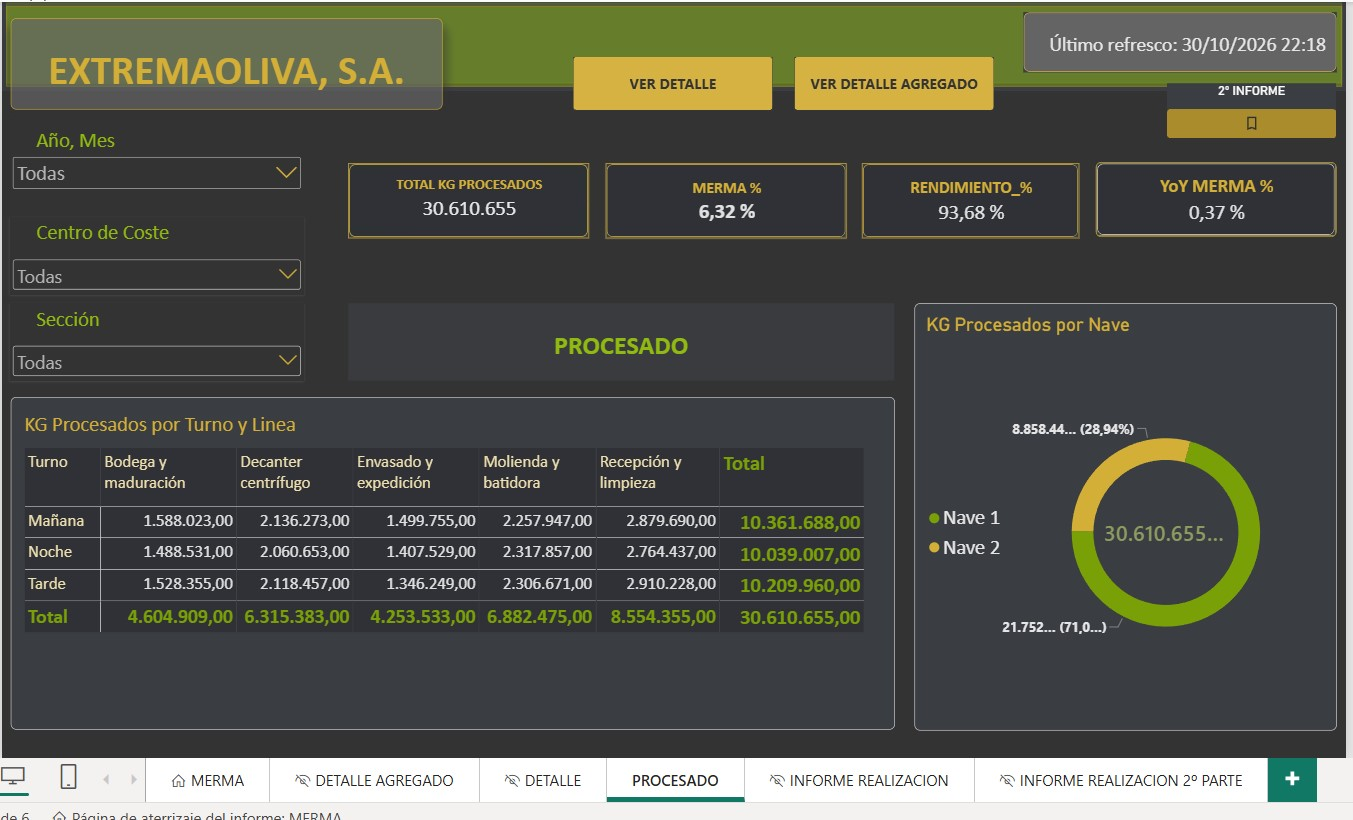

Layout of this report page (visuals, bound fields, positions):
{"tool":"powerbi","page":{"name":"PROCESADO","canvas":[1920,1080],"ordinal":3},"visuals":[{"type":"shape","box":[0,0,1920.6,127],"z":0},{"type":"slicer","title":" ⠀⠀Año, Mes","fields":{"Values":["Calendario.AÑO","Calendario.MES_LETRA"]},"box":[11.5,174.4,421,111],"z":1000},{"type":"textbox","box":[11.7,23.3,616.7,130],"z":2000},{"type":"slicer","title":"⠀⠀Sección","fields":{"Values":["Dim_Lineas.Seccion"]},"box":[11.5,429.5,421,111],"z":3000},{"type":"slicer","title":"⠀⠀Centro de Coste","fields":{"Values":["Dim_CentrosCoste.Nombre"]},"box":[11.5,307.7,421,111],"z":4000},{"type":"donutChart","title":"KG Procesados por Nave","fields":{"Category":["Dim_Lineas.Nave"],"Y":["Fact_Produccion.TOTAL KG PROCESADOS"]},"box":[1303.3,430,603.3,610],"z":5000},{"type":"pivotTable","title":"KG Procesados por Turno y Linea","fields":{"Columns":["Dim_Lineas.Nombre"],"Rows":["Dim_Turnos.Nombre"],"Values":["Fact_Produccion.TOTAL KG PROCESADOS"]},"box":[11.7,565,1263.3,475],"z":6000},{"type":"cardVisual","fields":{"Data":["Fact_Produccion.TOTAL KG PROCESADOS"]},"box":[494.8,231.2,344,107],"z":7000},{"type":"cardVisual","fields":{"Data":["Fact_Produccion.MERMA %"]},"box":[862.3,231.2,344,107],"z":8000},{"type":"cardVisual","fields":{"Data":["Fact_Produccion.RENDIMIENTO_%"]},"box":[1228.6,229.9,310,107.1],"z":9000},{"type":"cardVisual","fields":{"Data":["Fact_Produccion.% DIF AÑO ANTERIOR EN MERMA"]},"box":[1562.3,228.6,344.3,107.1],"z":10000},{"type":"textbox","box":[495,430,780,110],"z":11000},{"type":"actionButton","box":[1131.7,78.3,284.6,75.6],"z":12000},{"type":"actionButton","box":[816.7,78.3,284.6,75.6],"z":13000},{"type":"cardVisual","fields":{"Data":["Calendario.Último Refresco"]},"box":[1458.3,15,448.3,86.7],"z":14000},{"type":"actionButton","title":"2º INFORME","box":[1665,116.7,241.7,78.3],"z":15000}]}

Visuals, with their boxes on the page's 1920x1080 design canvas (x1, y1, x2, y2). These are canvas units, not pixel positions in the 1353x820 screenshot, which may show the page scaled, cropped or inside an application window:
shape: BBox(0, 0, 1921, 127)
" ⠀⠀Año, Mes" slicer: BBox(12, 174, 432, 285)
textbox: BBox(12, 23, 628, 153)
"⠀⠀Sección" slicer: BBox(12, 430, 432, 540)
"⠀⠀Centro de Coste" slicer: BBox(12, 308, 432, 419)
"KG Procesados por Nave" donutChart: BBox(1303, 430, 1907, 1040)
"KG Procesados por Turno y Linea" pivotTable: BBox(12, 565, 1275, 1040)
cardVisual - Fact_Produccion.TOTAL KG PROCESADOS: BBox(495, 231, 839, 338)
cardVisual - Fact_Produccion.MERMA %: BBox(862, 231, 1206, 338)
cardVisual - Fact_Produccion.RENDIMIENTO_%: BBox(1229, 230, 1539, 337)
cardVisual - Fact_Produccion.% DIF AÑO ANTERIOR EN MERMA: BBox(1562, 229, 1907, 336)
textbox: BBox(495, 430, 1275, 540)
actionButton: BBox(1132, 78, 1416, 154)
actionButton: BBox(817, 78, 1101, 154)
cardVisual - Calendario.Último Refresco: BBox(1458, 15, 1907, 102)
"2º INFORME" actionButton: BBox(1665, 117, 1907, 195)
